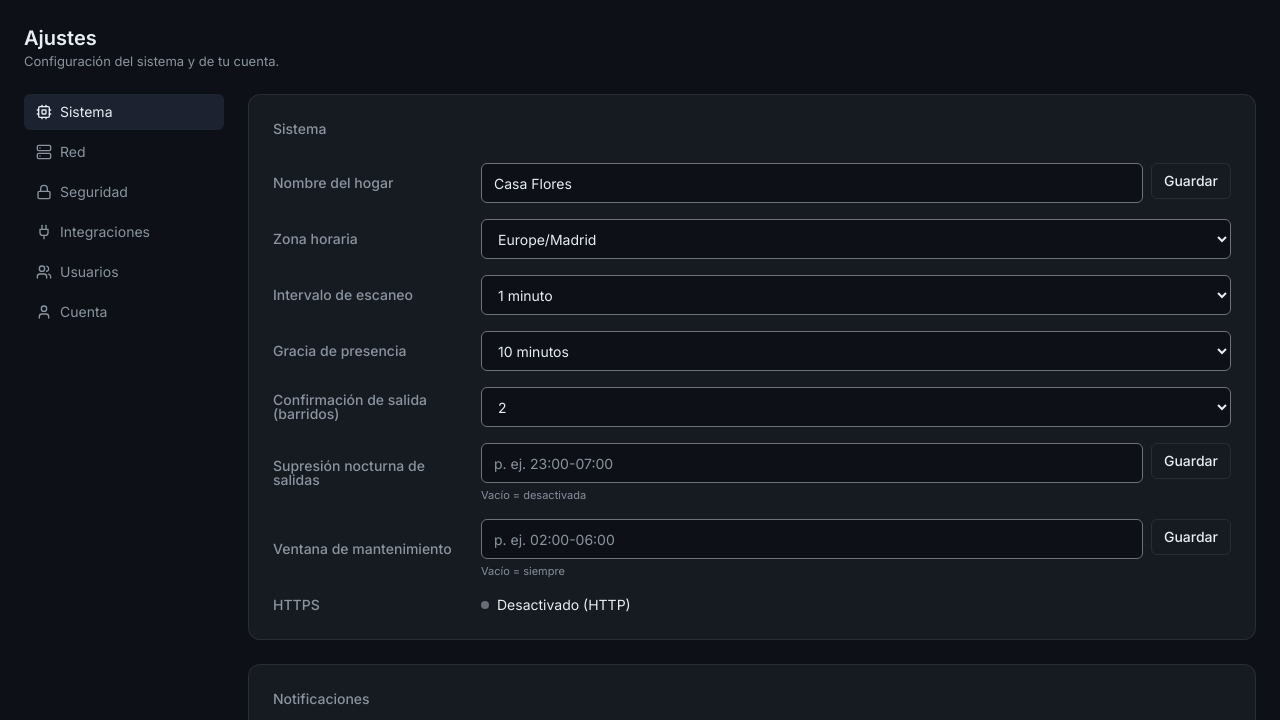
Test: SettingsPage › muestra un error y no falla en silencio si el PATCH falla (US-55)
Expected: the field showing "Casa Flores" is shown, [481,163,1143,203]
Select "UTC" in the dropdown showing "Europe/Madrid" at (856, 239), box [481,219,1231,259]
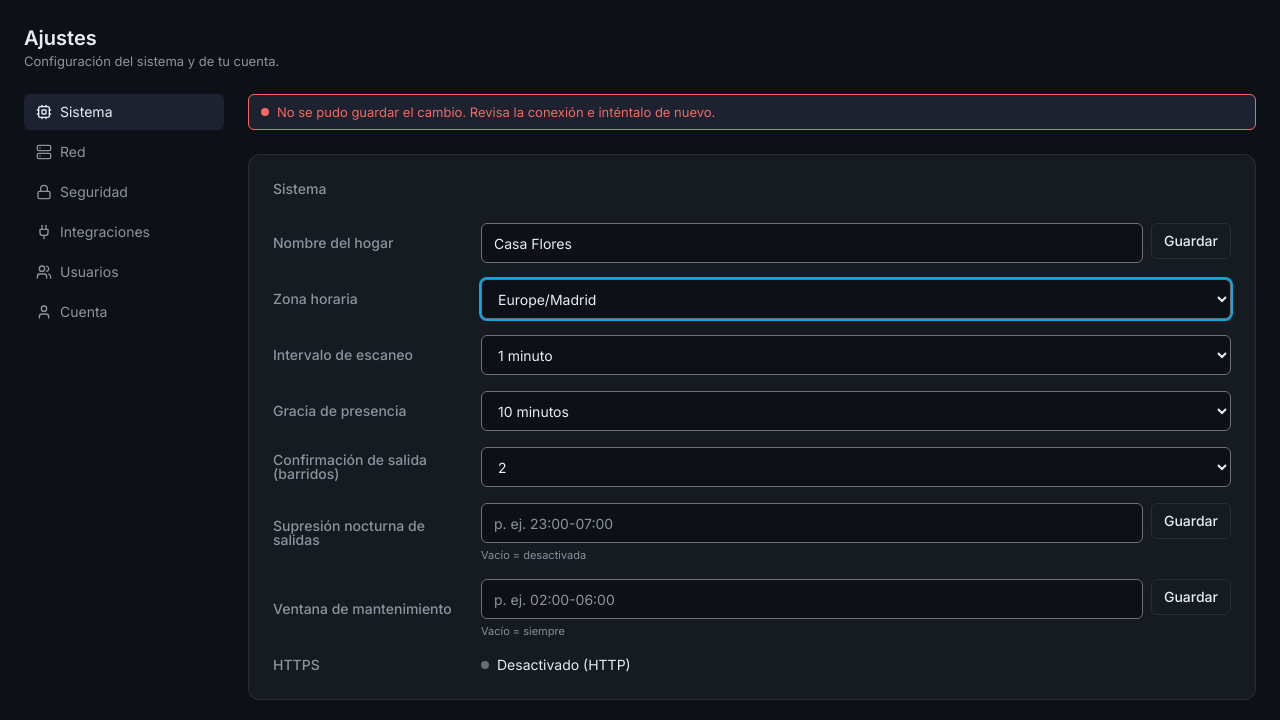
Now the message shows "No se pudo guardar", box [277,104,715,120]
